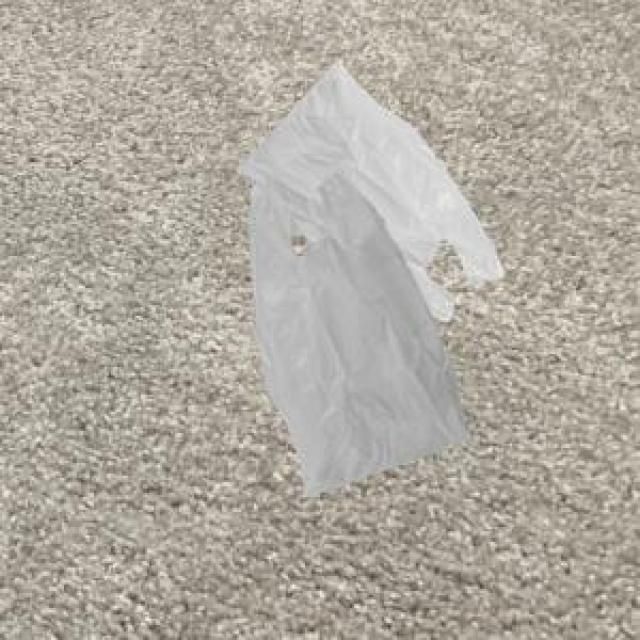plastic: (193, 55, 519, 504)
